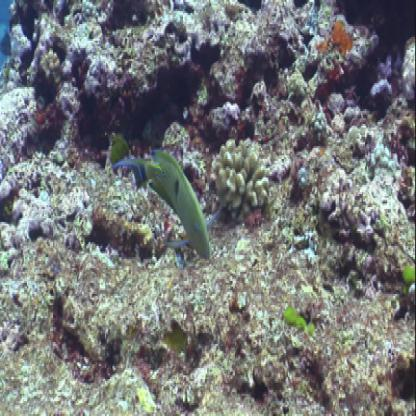surgeon: (105, 132, 224, 273)
